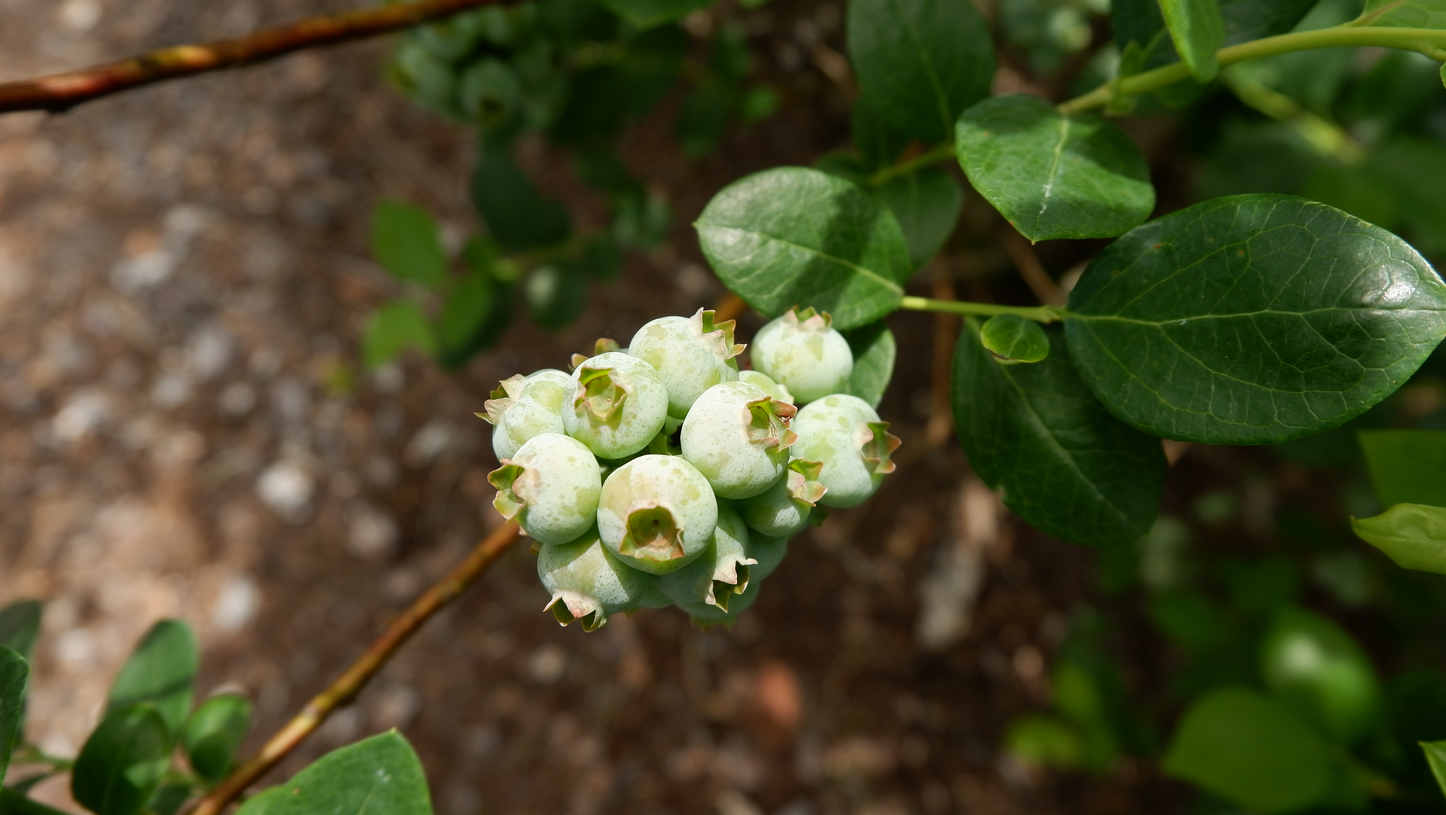Immature: (597, 453, 718, 576), (680, 382, 799, 500), (628, 307, 747, 420), (789, 393, 902, 510), (647, 495, 758, 614), (487, 433, 601, 547), (537, 517, 649, 633), (560, 353, 668, 459), (749, 304, 854, 404), (474, 368, 571, 461), (735, 457, 828, 537), (674, 583, 760, 630), (746, 524, 788, 584), (624, 577, 676, 619), (739, 370, 794, 406)
